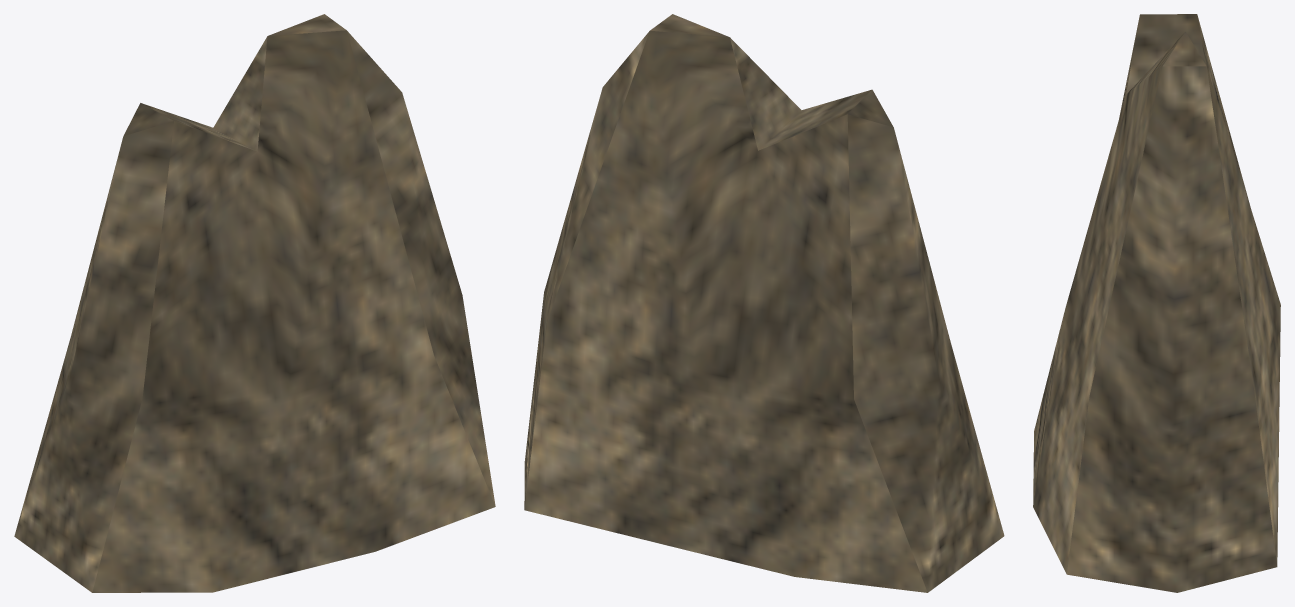
The model's file is rock_gformation3.glb.
3 views of the same model, side by side, from view 1: azimuth 30°, elevation 25°; view 2: azimuth 150°, elevation 25°; view 3: azimuth 270°, elevation 25° (orthographic). The views are drawn at different scales.
Visible parts, largest first — view 1: Rock_GFormation3; view 2: Rock_GFormation3; view 3: Rock_GFormation3.
Part boxes in pixels (x1=…): Rock_GFormation3: x1=14, y1=14, x2=495, y2=592; Rock_GFormation3: x1=524, y1=14, x2=1004, y2=592; Rock_GFormation3: x1=1033, y1=14, x2=1280, y2=592.
Bounding box in the file's own units: 16.11 × 16.83 × 8.17.
1 material, 1 textured.
